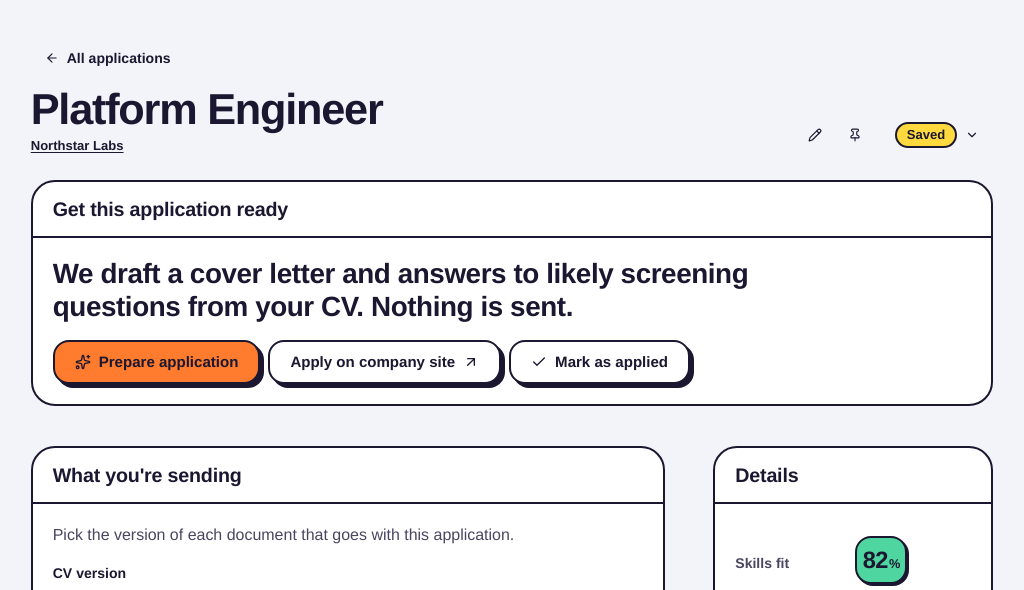
Test case: ApplicationPage › shows the server's reason when an apply step is refused
expect the heading "Get this application ready" is shown: met, box [53, 198, 288, 220]
What coordinates should you click on to do the following:
click the button "Prepare application"
I would click on:
 (157, 362)
Its box is [53, 340, 260, 384].
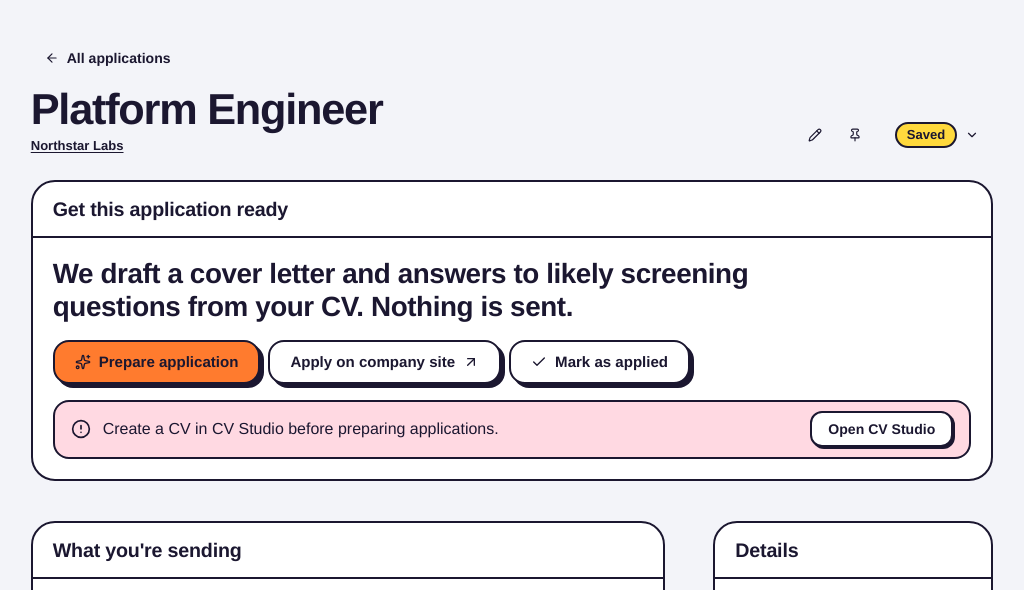
expect the heading "Get this application ready" is shown: met, box [53, 198, 288, 220]
expect the message shows "Create a CV in CV Studio before preparing applications.": met, box [103, 419, 499, 439]
